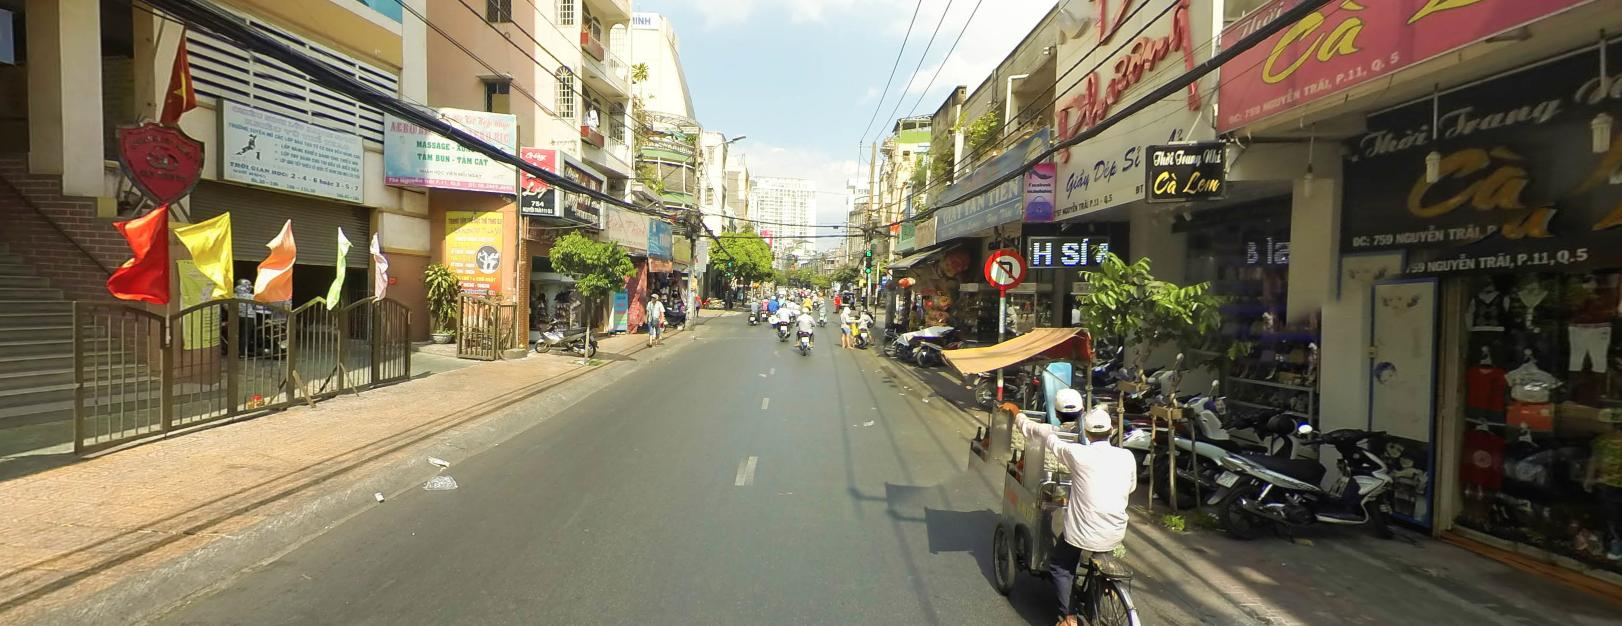Cam re: (984, 248, 1025, 287)
